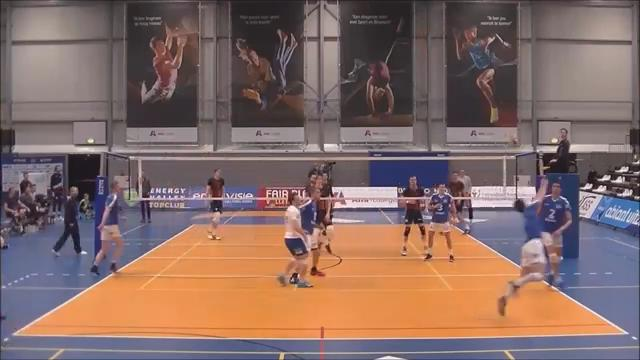difesa: (492, 172, 552, 318)
